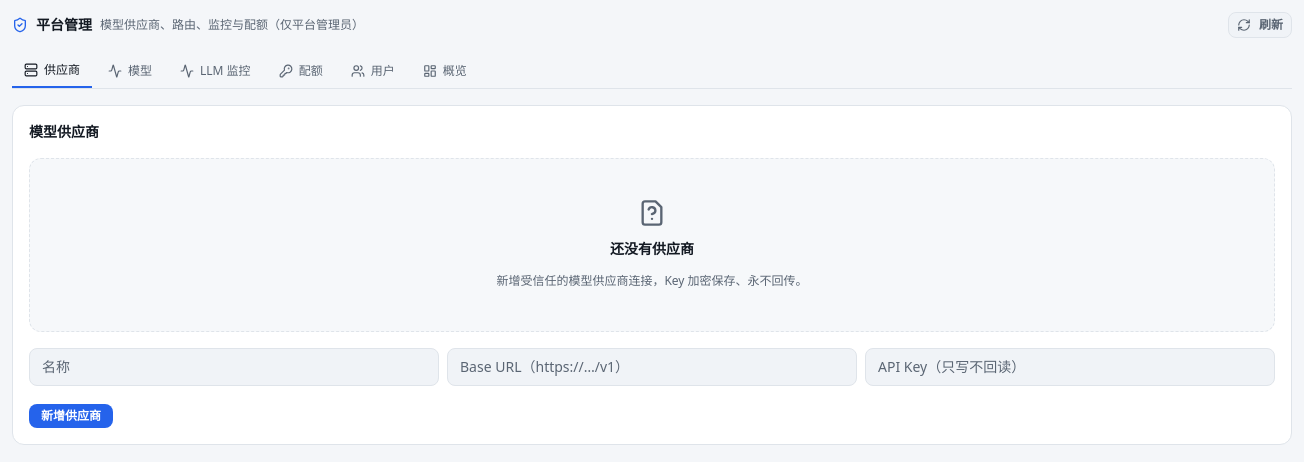
Test: AdminPage 用户与概览视图 › 管理员可查看用户列表
Click the button "用户". click: (373, 71)
box: [339,54,407,88]
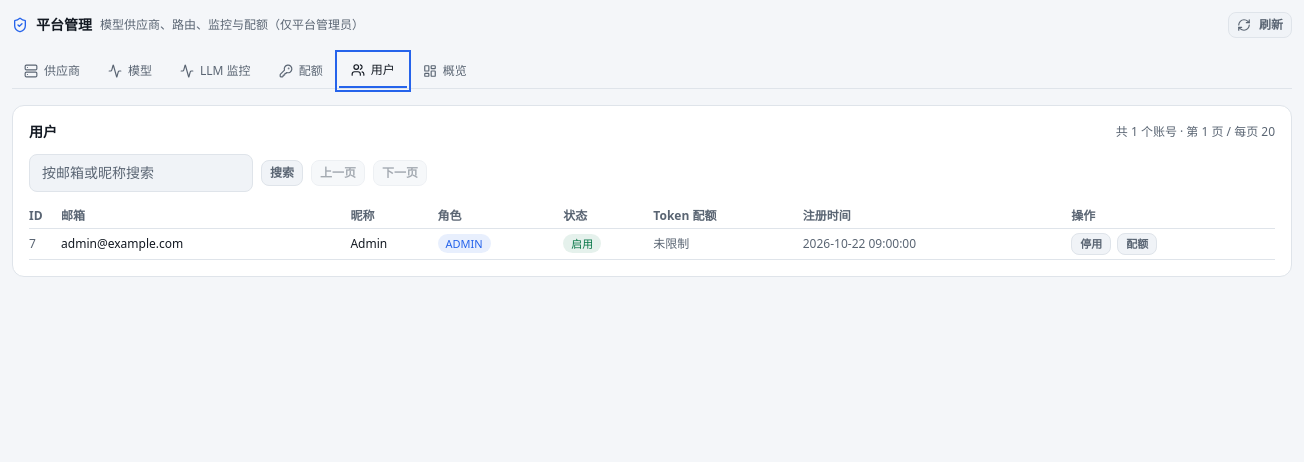
Now the text "admin@example.com" is shown, box [61,228,350,259]
Now the text "ADMIN" is shown, box [438,234,491,253]
Now the text "共 1 个账号 · 第 1 页 / 每页 20" is shown, box [1116,124,1275,140]
